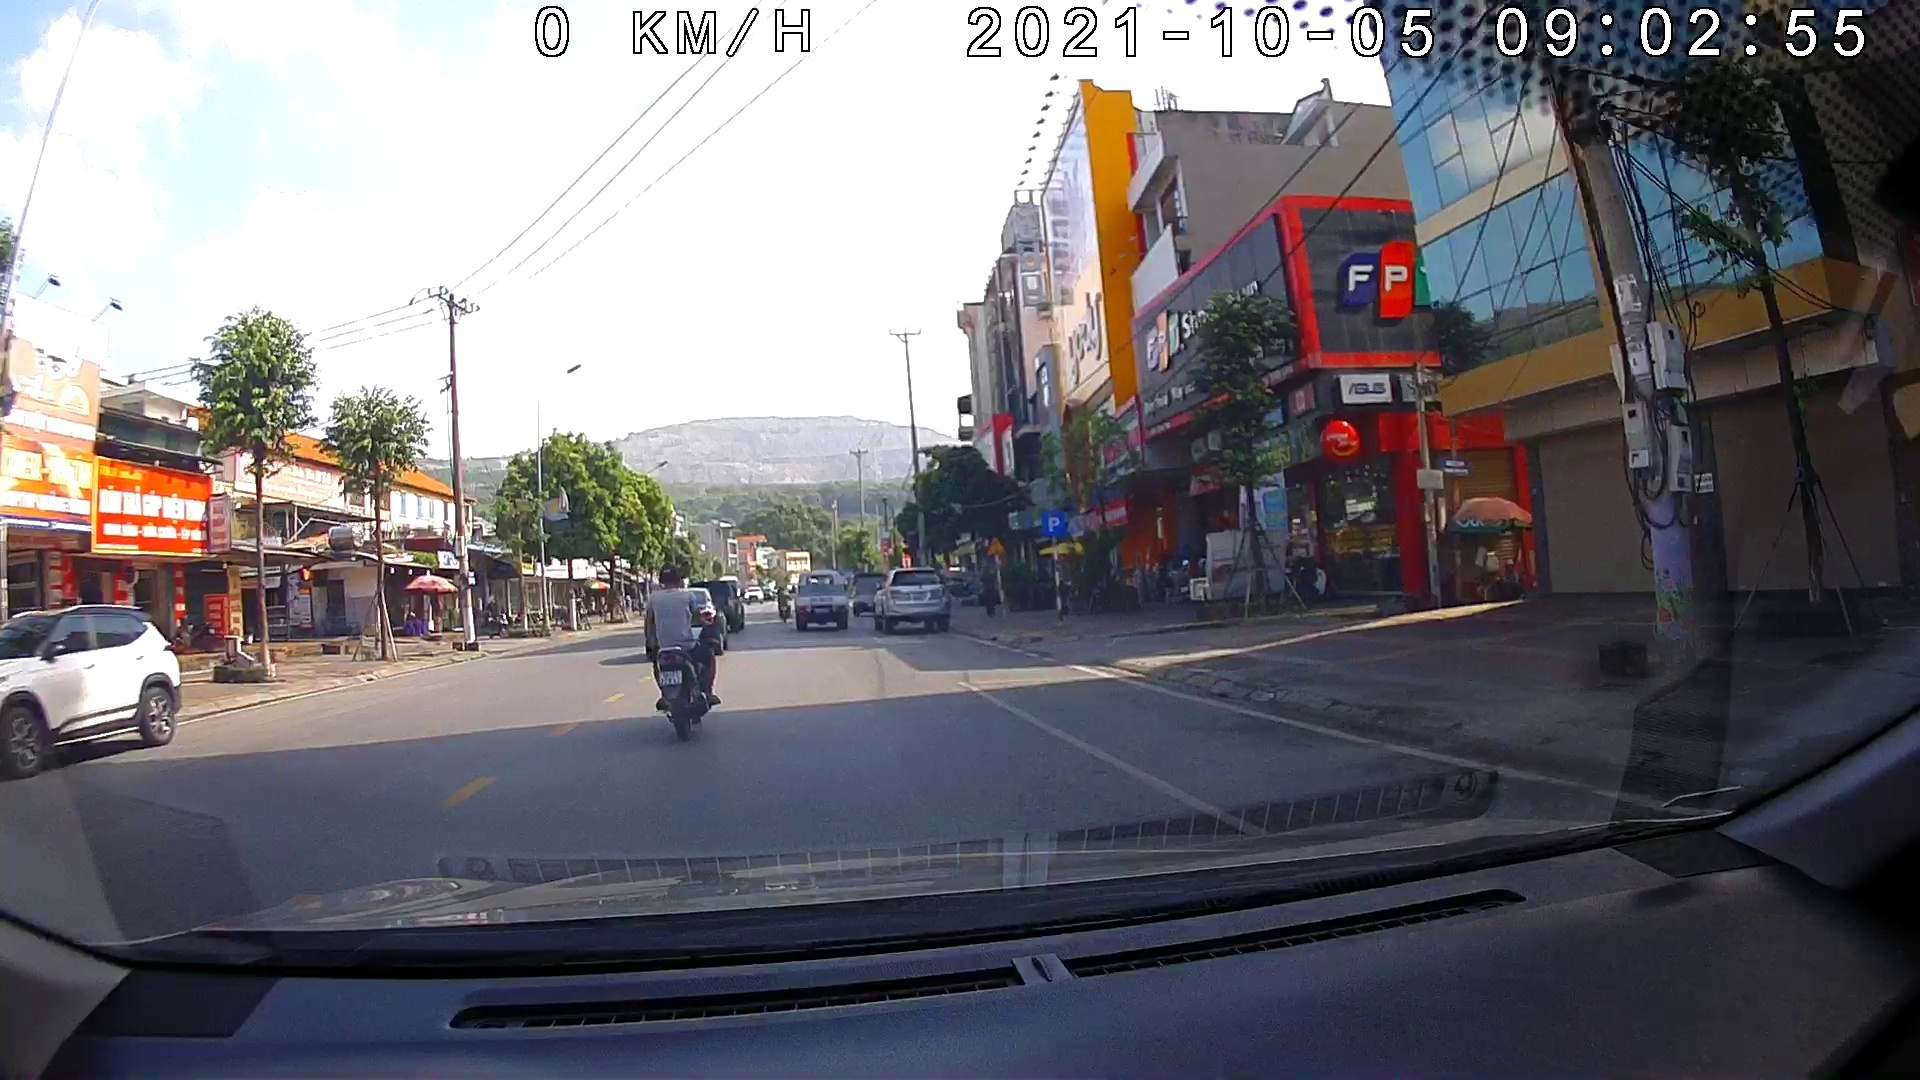Bien khac: (1036, 509, 1065, 537), (980, 534, 1006, 555)
